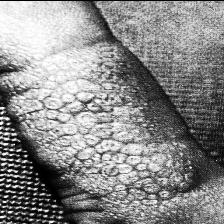Unclassified: (7, 3, 98, 191), (118, 92, 158, 214), (160, 157, 224, 211)
